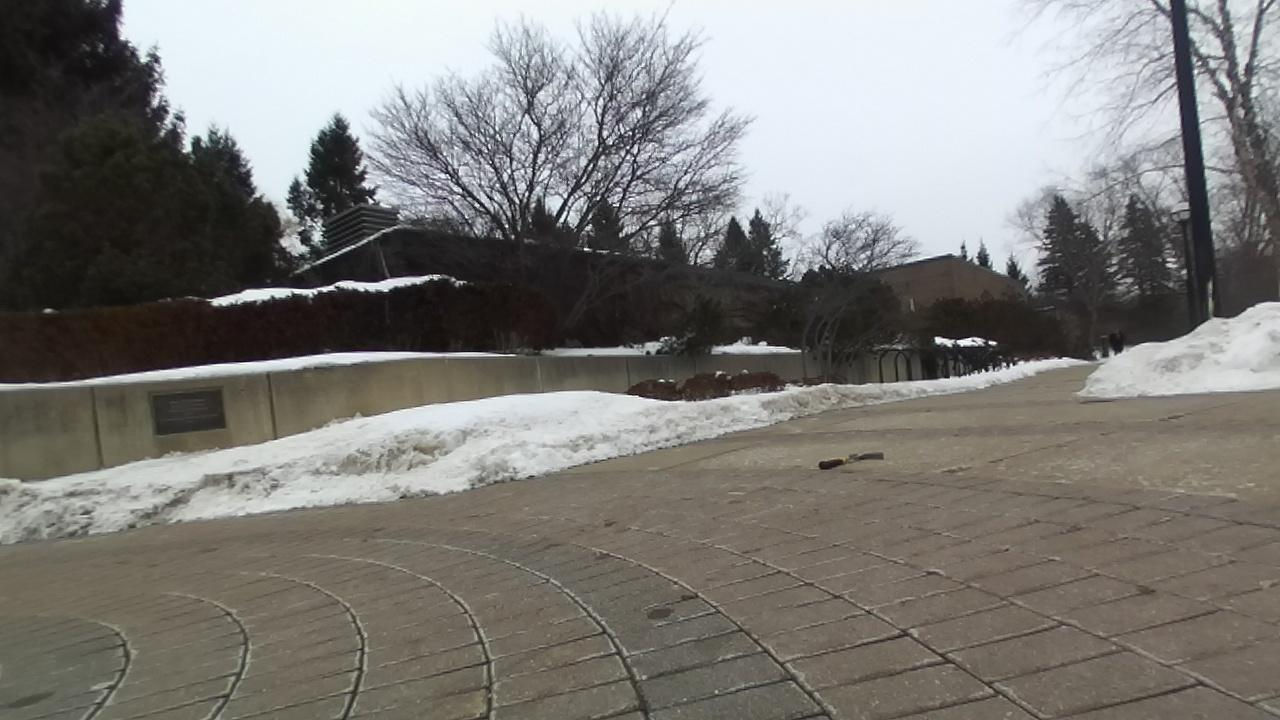pick: (818, 451, 884, 469)
